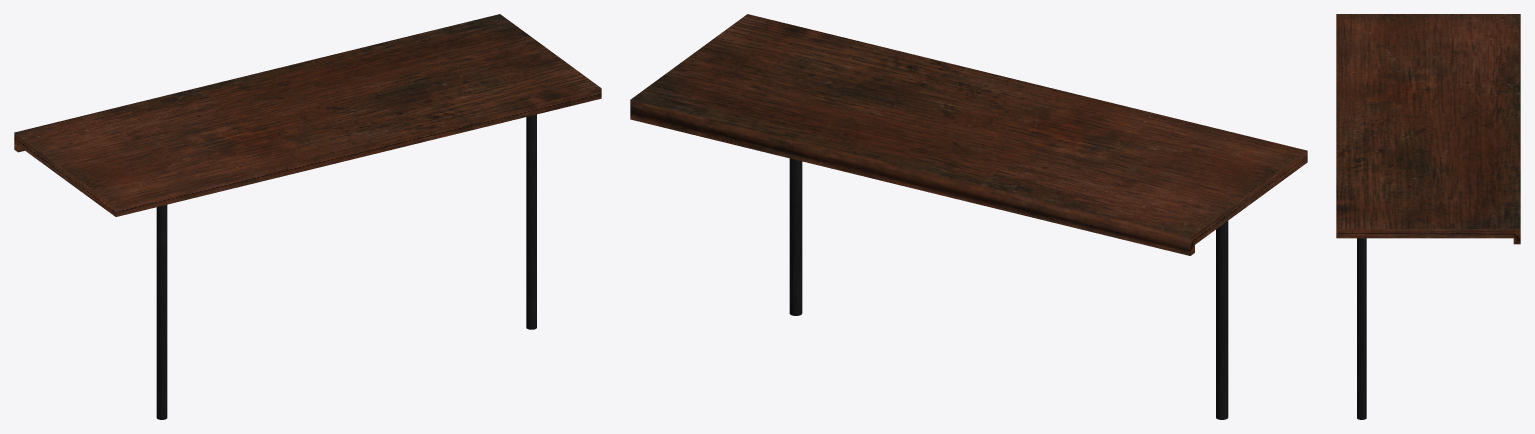
The model's file is Shelf.fbx.
The picture shows the model from 3 angles, left to right: view 1: azimuth 30°, elevation 25°; view 2: azimuth 150°, elevation 25°; view 3: azimuth 270°, elevation 25°; orthographic projection. The views are drawn at different scales.
Parts seen in each view (by area): view 1: Shelf_top, Shelf_Leg1, Shelf_Leg2; view 2: Shelf_top, Shelf_Leg1, Shelf_Leg2; view 3: Shelf_top, Shelf_Leg2.
Part boxes in pixels (x1,y1,x2,y2): Shelf_top: [14, 14, 601, 216]; Shelf_Leg1: [156, 204, 167, 419]; Shelf_Leg2: [526, 114, 536, 329]; Shelf_top: [630, 14, 1307, 255]; Shelf_Leg1: [1216, 221, 1228, 419]; Shelf_Leg2: [789, 158, 802, 315]; Shelf_top: [1336, 14, 1520, 244]; Shelf_Leg2: [1357, 238, 1366, 419].
Size of the model in its own units: 181 by 83.88 by 65.61.
Materials: 1 (1 with a texture image).
